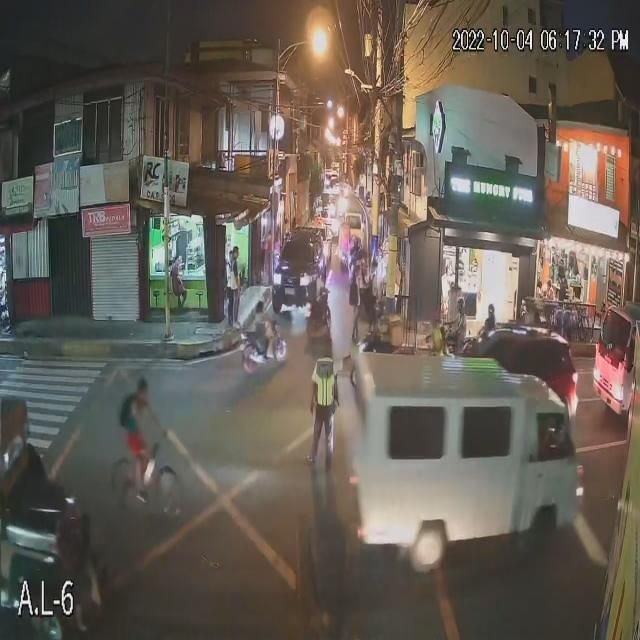helmet: (486, 306, 498, 317), (458, 298, 467, 311)
motorcycle: (240, 320, 288, 374), (427, 313, 468, 355)
rider: (254, 315, 269, 345), (457, 314, 466, 350)
